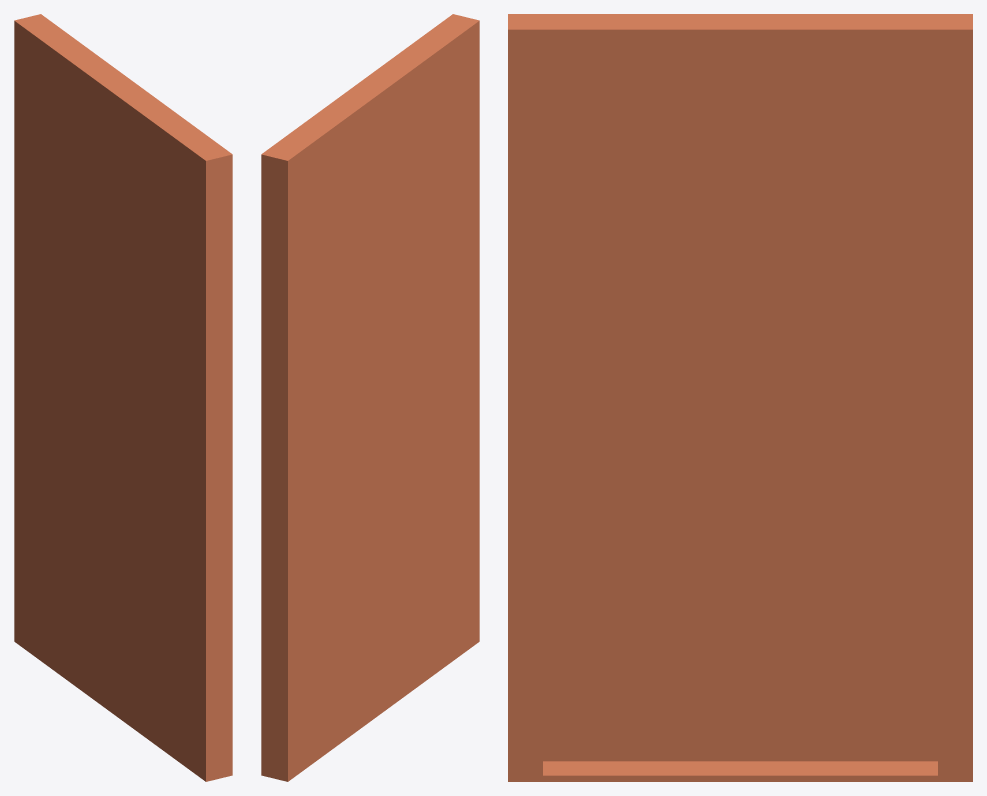
File: DOOR FRAME.fbx
3 views of the same model, side by side, from view 1: azimuth 30°, elevation 25°; view 2: azimuth 150°, elevation 25°; view 3: azimuth 270°, elevation 25° (orthographic). The views are drawn at different scales.
Visible parts, largest first — view 1: OUTLINE DOOR; view 2: OUTLINE DOOR; view 3: OUTLINE DOOR.
Part boxes in pixels (x1,y1,x2,y2): OUTLINE DOOR: (14, 14, 232, 781); OUTLINE DOOR: (261, 14, 479, 781); OUTLINE DOOR: (508, 14, 972, 781).
Bounding box in the file's own units: 32.28 × 716 × 401.
